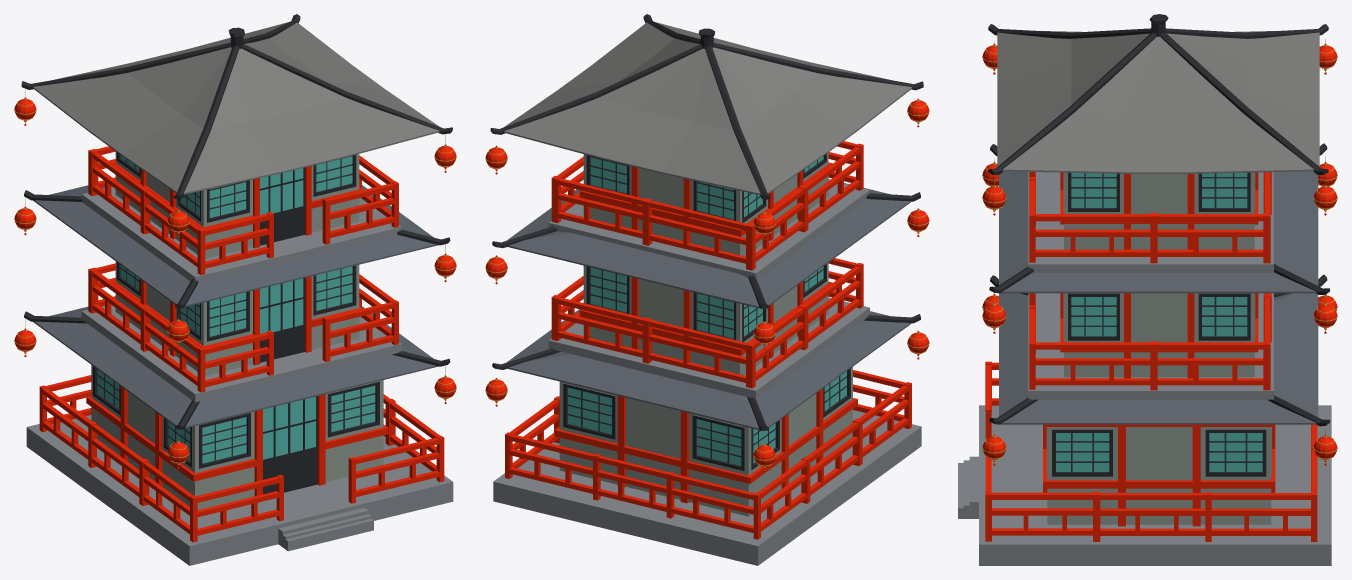
File: Building_2.fbx
3 renders of one model, left to right at view 1: azimuth 30°, elevation 25°; view 2: azimuth 150°, elevation 25°; view 3: azimuth 270°, elevation 25°, orthographic. The views are drawn at different scales.
Visible parts, largest first — view 1: Building_2; view 2: Building_2; view 3: Building_2.
Boxes of the visible parts, box(x1,y1,x2,y2) form: Building_2: box(14, 14, 456, 565); Building_2: box(485, 14, 929, 565); Building_2: box(958, 14, 1337, 565).
Size of the model in its own units: 470 by 692 by 498.
